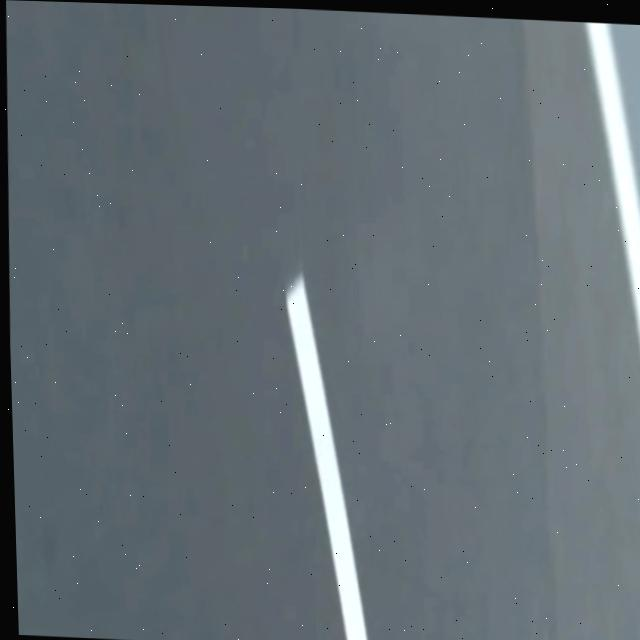center: (286, 273, 368, 640)
left: (586, 22, 640, 346)
